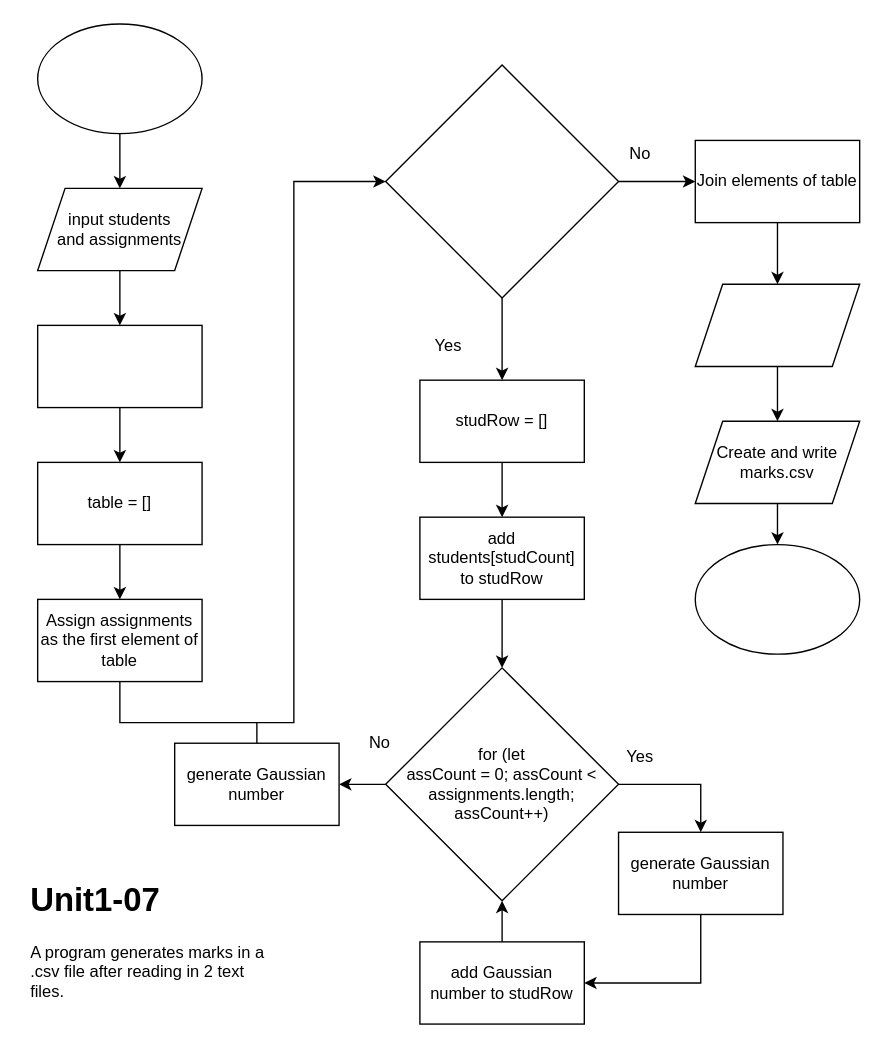
Image size: 884x1062. Some labels were removed from this diagram. Here are the shapes that lost their labels. From the top down, the centre of each, then its label:
the point at 119,78: Start
the point at 501,181: for (let studCount = 0; studCount < students.length; studCount++)
the point at 777,324: Print string of joined elements of table
the point at 119,366: Assign ' ' as the first item of assignments
the point at 777,598: Stop
